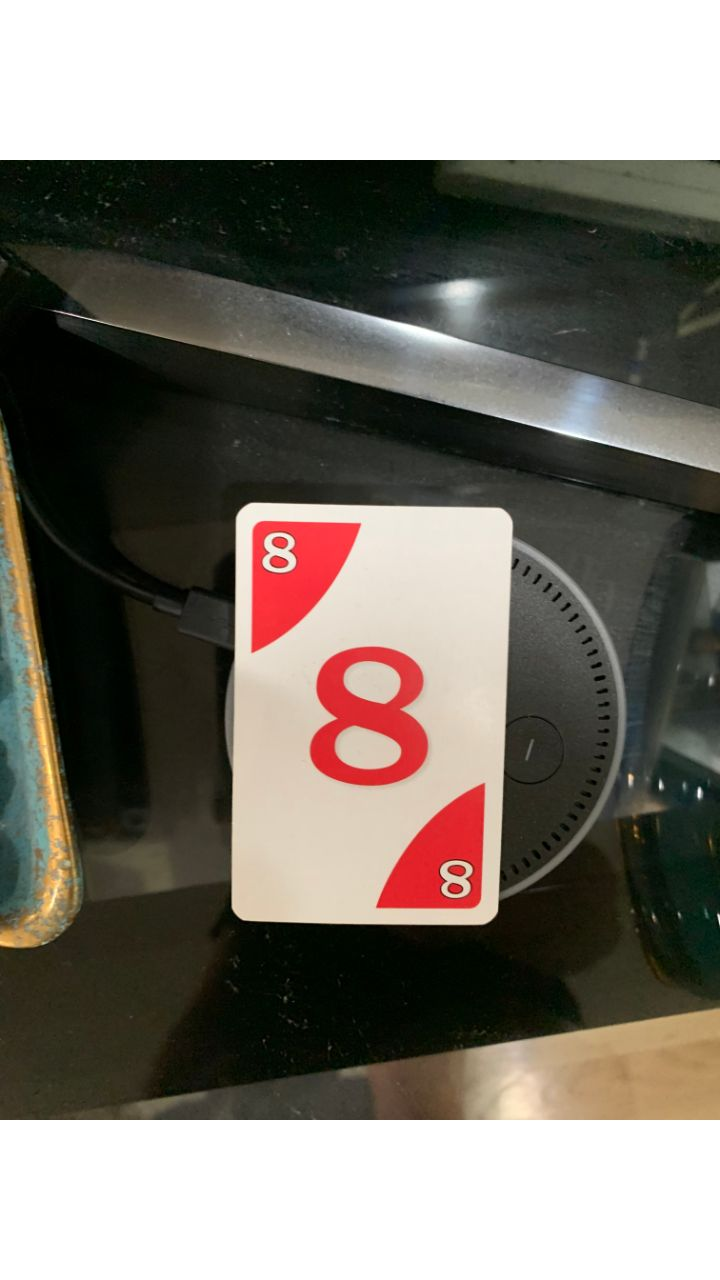eight: (223, 498, 515, 939)
